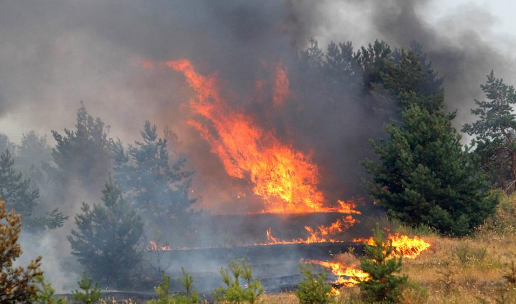fire: (201, 95, 320, 215), (386, 234, 427, 261), (332, 261, 368, 285), (333, 200, 356, 229), (305, 223, 331, 243)
